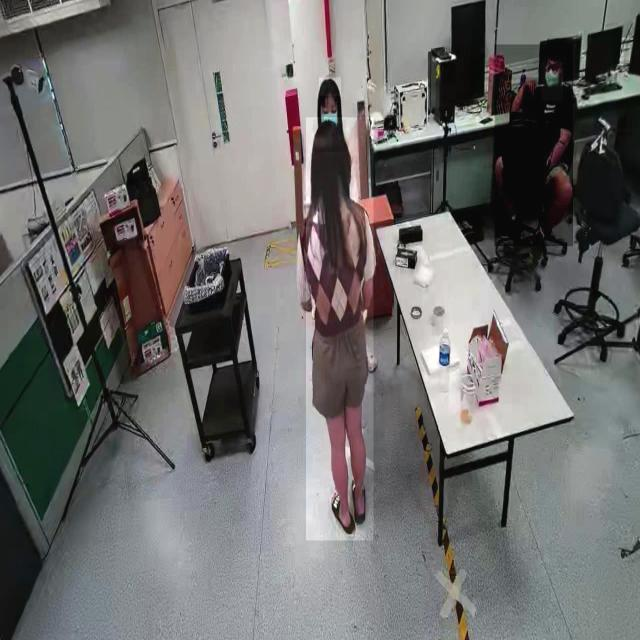face_mask: (541, 62, 563, 101)
hand_noglove: (522, 77, 538, 99)
head_nohelmet: (312, 119, 346, 153), (319, 77, 341, 97), (547, 38, 567, 58)
person: (306, 118, 374, 542), (494, 45, 573, 247)
